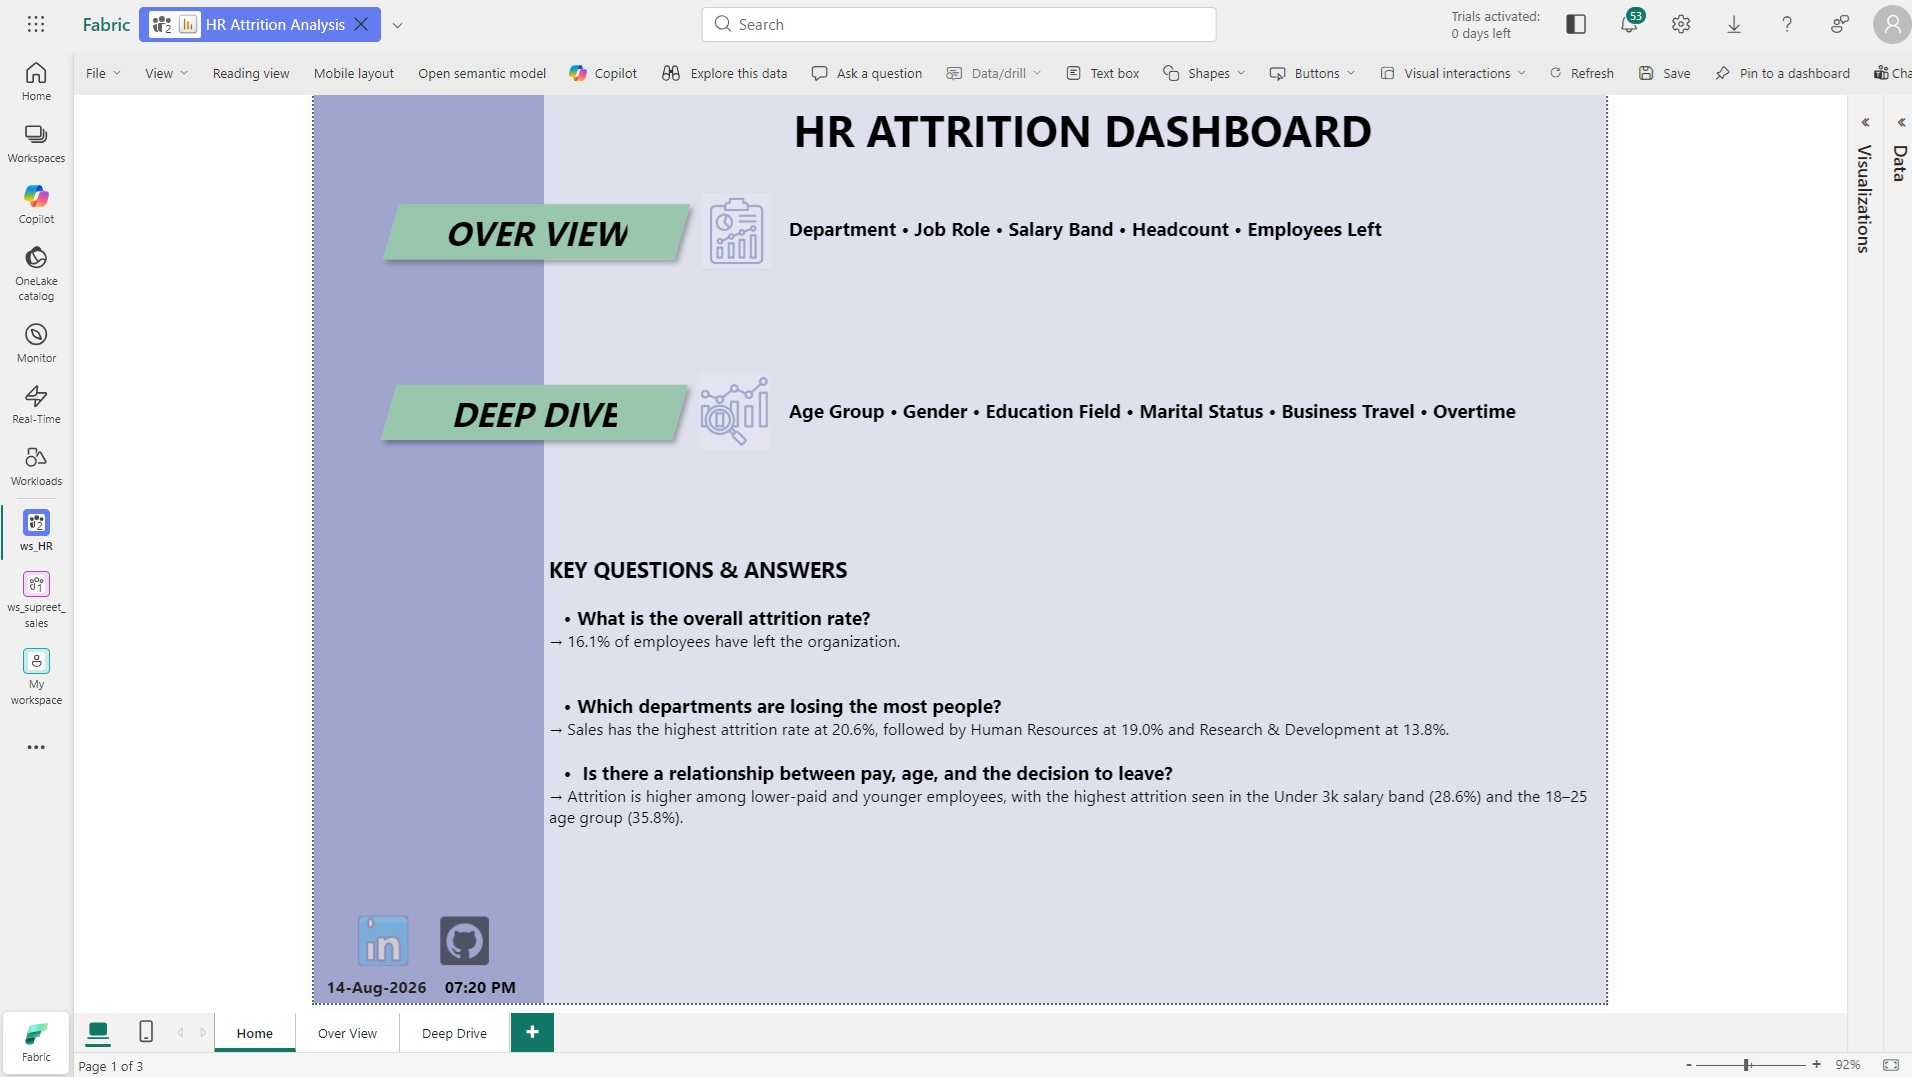

The page's visual inventory and layout, read from the dashboard file:
{"tool":"powerbi","page":{"name":"Home","canvas":[1280,900],"ordinal":0},"visuals":[{"type":"shape","box":[0,0,227.8,900],"z":0},{"type":"textbox","box":[469.3,0,592.8,73.7],"z":1000},{"type":"shape","box":[57.8,98.6,325,75],"z":1000,"group":"g1"},{"type":"shape","box":[55.5,276.5,325,75],"z":2000,"group":"g2"},{"type":"cardVisual","fields":{"Data":["HR_Employees.Latest Date Time","HR_Employees.Latest Time"]},"box":[5.7,862.6,217.6,37.4],"z":2000},{"type":"group","id":"g1","title":"Group 1","box":[57.8,97.5,395.3,76.1],"z":3000},{"type":"group","id":"g2","title":"Group 2","box":[55.5,275.4,395.3,76.1],"z":4000},{"type":"textbox","box":[227.8,450,1051.9,284.5],"z":5000},{"type":"actionButton","box":[383.1,97.5,70,75.9],"z":5001,"group":"g1"},{"type":"actionButton","box":[380.8,275.4,70,75.9],"z":5001,"group":"g2"},{"type":"textbox","box":[465.9,294.7,745.8,38.5],"z":6000},{"type":"textbox","box":[465.9,114.5,745.8,40.8],"z":7000},{"type":"actionButton","box":[43.1,812.7,50,50],"z":8000},{"type":"actionButton","box":[124.7,812.7,50,50],"z":9000}]}

Visuals, with their boxes on the page's 1280x900 design canvas (x1, y1, x2, y2). These are canvas units, not pixel positions in the 1912x1077 screenshot, which may show the page scaled, cropped or inside an application window:
shape: left=0, top=0, right=228, bottom=900
textbox: left=469, top=0, right=1062, bottom=74
shape: left=58, top=99, right=383, bottom=174
shape: left=56, top=276, right=380, bottom=352
cardVisual - HR_Employees.Latest Date Time x HR_Employees.Latest Time: left=6, top=863, right=223, bottom=900
"Group 1" group: left=58, top=98, right=453, bottom=174
"Group 2" group: left=56, top=275, right=451, bottom=352
textbox: left=228, top=450, right=1280, bottom=734
actionButton: left=383, top=98, right=453, bottom=173
actionButton: left=381, top=275, right=451, bottom=351
textbox: left=466, top=295, right=1212, bottom=333
textbox: left=466, top=114, right=1212, bottom=155
actionButton: left=43, top=813, right=93, bottom=863
actionButton: left=125, top=813, right=175, bottom=863
